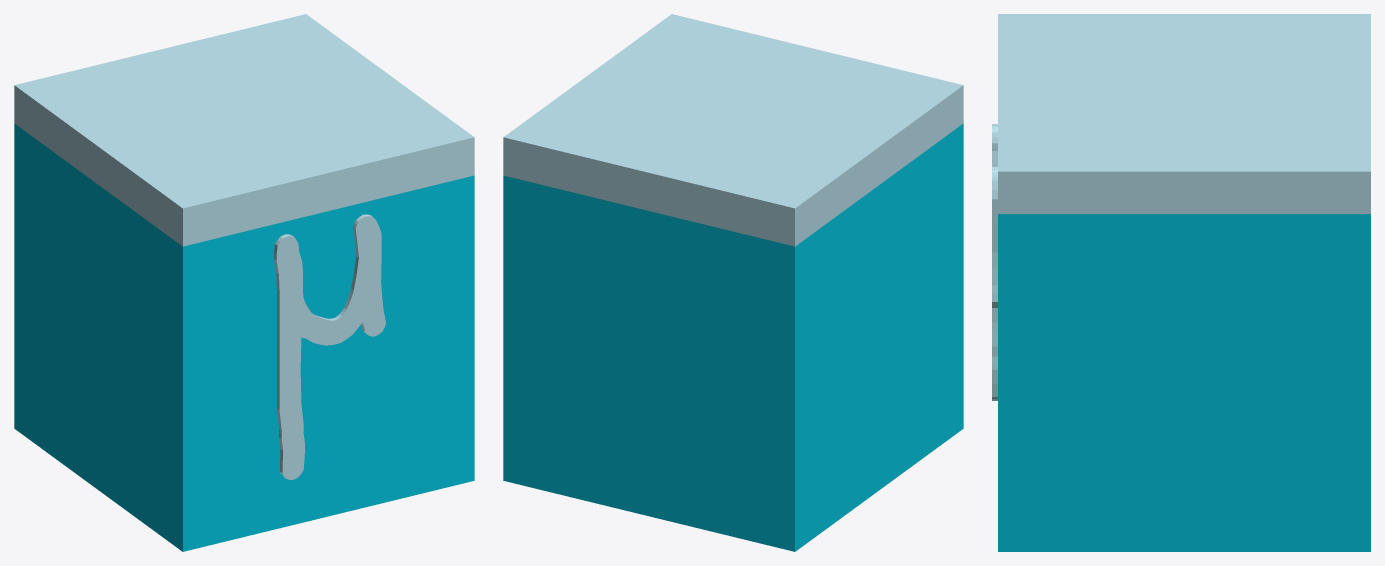
Rendered from ╬╝ chest.glb.
The picture shows the model from 3 angles, left to right: view 1: azimuth 30°, elevation 25°; view 2: azimuth 150°, elevation 25°; view 3: azimuth 270°, elevation 25°; orthographic projection. The views are drawn at different scales.
Parts seen in each view (by area): view 1: chest face 1, chest lid, chest face 3, chest bottom, chest μ, chest face 2, chest face 4; view 2: chest face 4, chest lid, chest face 3, chest bottom, chest face 2, chest face 1; view 3: chest face 2, chest lid, chest bottom, chest face 1, chest face 4, chest μ.
Part boxes in pixels (x1=…): chest face 1: x1=161, y1=175, x2=474, y2=551; chest lid: x1=14, y1=14, x2=474, y2=246; chest face 3: x1=14, y1=123, x2=219, y2=551; chest bottom: x1=14, y1=391, x2=474, y2=551; chest μ: x1=274, y1=214, x2=385, y2=479; chest face 2: x1=438, y1=176, x2=474, y2=489; chest face 4: x1=14, y1=124, x2=35, y2=441; chest face 4: x1=503, y1=176, x2=816, y2=550; chest lid: x1=503, y1=14, x2=963, y2=246; chest face 3: x1=758, y1=124, x2=963, y2=551; chest bottom: x1=503, y1=391, x2=963, y2=551; chest face 2: x1=503, y1=175, x2=539, y2=487; chest face 1: x1=942, y1=123, x2=963, y2=443; chest face 2: x1=998, y1=214, x2=1370, y2=551; chest lid: x1=998, y1=14, x2=1370, y2=213; chest bottom: x1=998, y1=509, x2=1370, y2=551; chest face 1: x1=998, y1=214, x2=1044, y2=551; chest face 4: x1=1324, y1=214, x2=1370, y2=551; chest μ: x1=992, y1=124, x2=997, y2=400.
Bounding box in the file's own units: 25.4 × 28.58 × 25.8.
